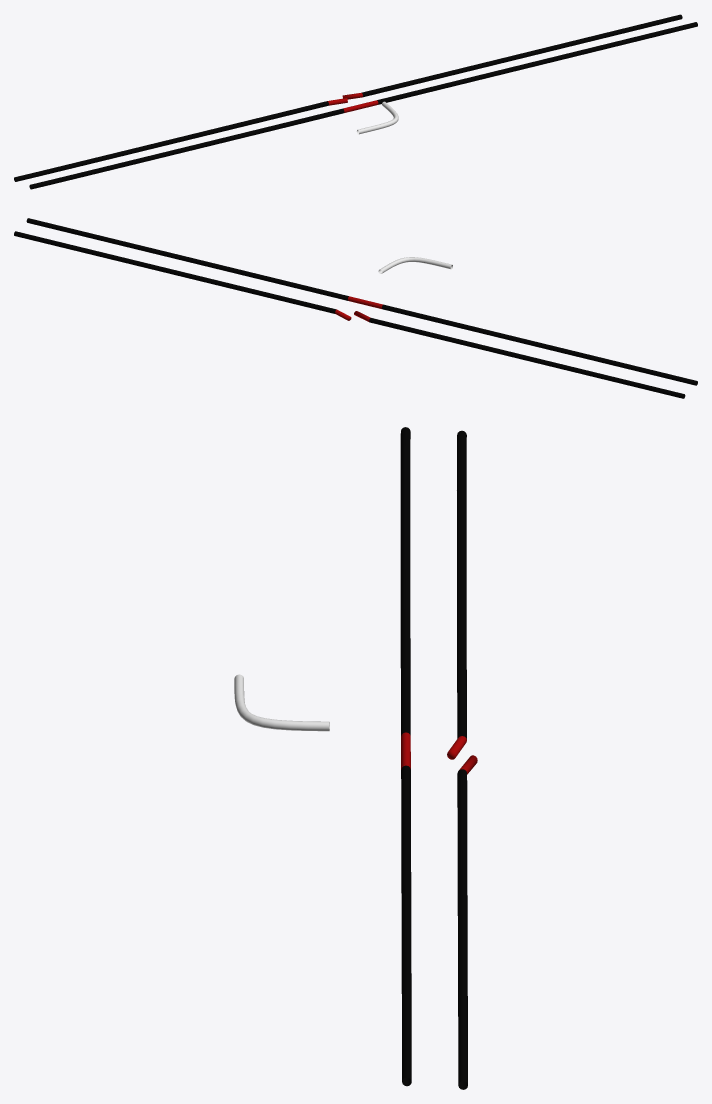
File: Wires.fbx
3 renders of one model, top to bottom at view 1: azimuth 30°, elevation 25°; view 2: azimuth 150°, elevation 25°; view 3: azimuth 270°, elevation 25°, orthographic. The views are drawn at different scales.
Visible parts, largest first — view 1: BézierCurve, BézierCurve.004, BézierCurve.005, BézierCurve.003; view 2: BézierCurve, BézierCurve.004, BézierCurve.005, BézierCurve.003; view 3: BézierCurve, BézierCurve.004, BézierCurve.005, BézierCurve.003.
Boxes of the visible parts, x1,y1,x2,y2 form: BézierCurve: (29,22,697,189); BézierCurve.004: (342,14,682,99); BézierCurve.005: (14,98,347,181); BézierCurve.003: (356,101,398,134); BézierCurve: (26,218,697,385); BézierCurve.004: (14,231,351,320); BézierCurve.005: (354,311,685,398); BézierCurve.003: (378,257,452,273); BézierCurve: (400,427,411,1086); BézierCurve.004: (457,755,477,1089); BézierCurve.005: (447,430,466,759); BézierCurve.003: (234,674,329,731).
Bounding box in the file's own units: 1584 × 53.65 × 250.
